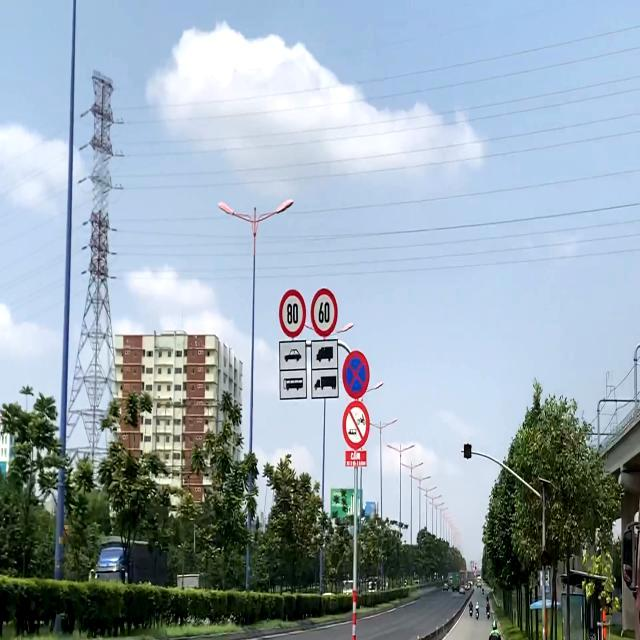Cam dung xe va do xe: (341, 348, 370, 401)
Toc do toi da cho phep: (310, 288, 337, 337), (280, 290, 306, 336)
